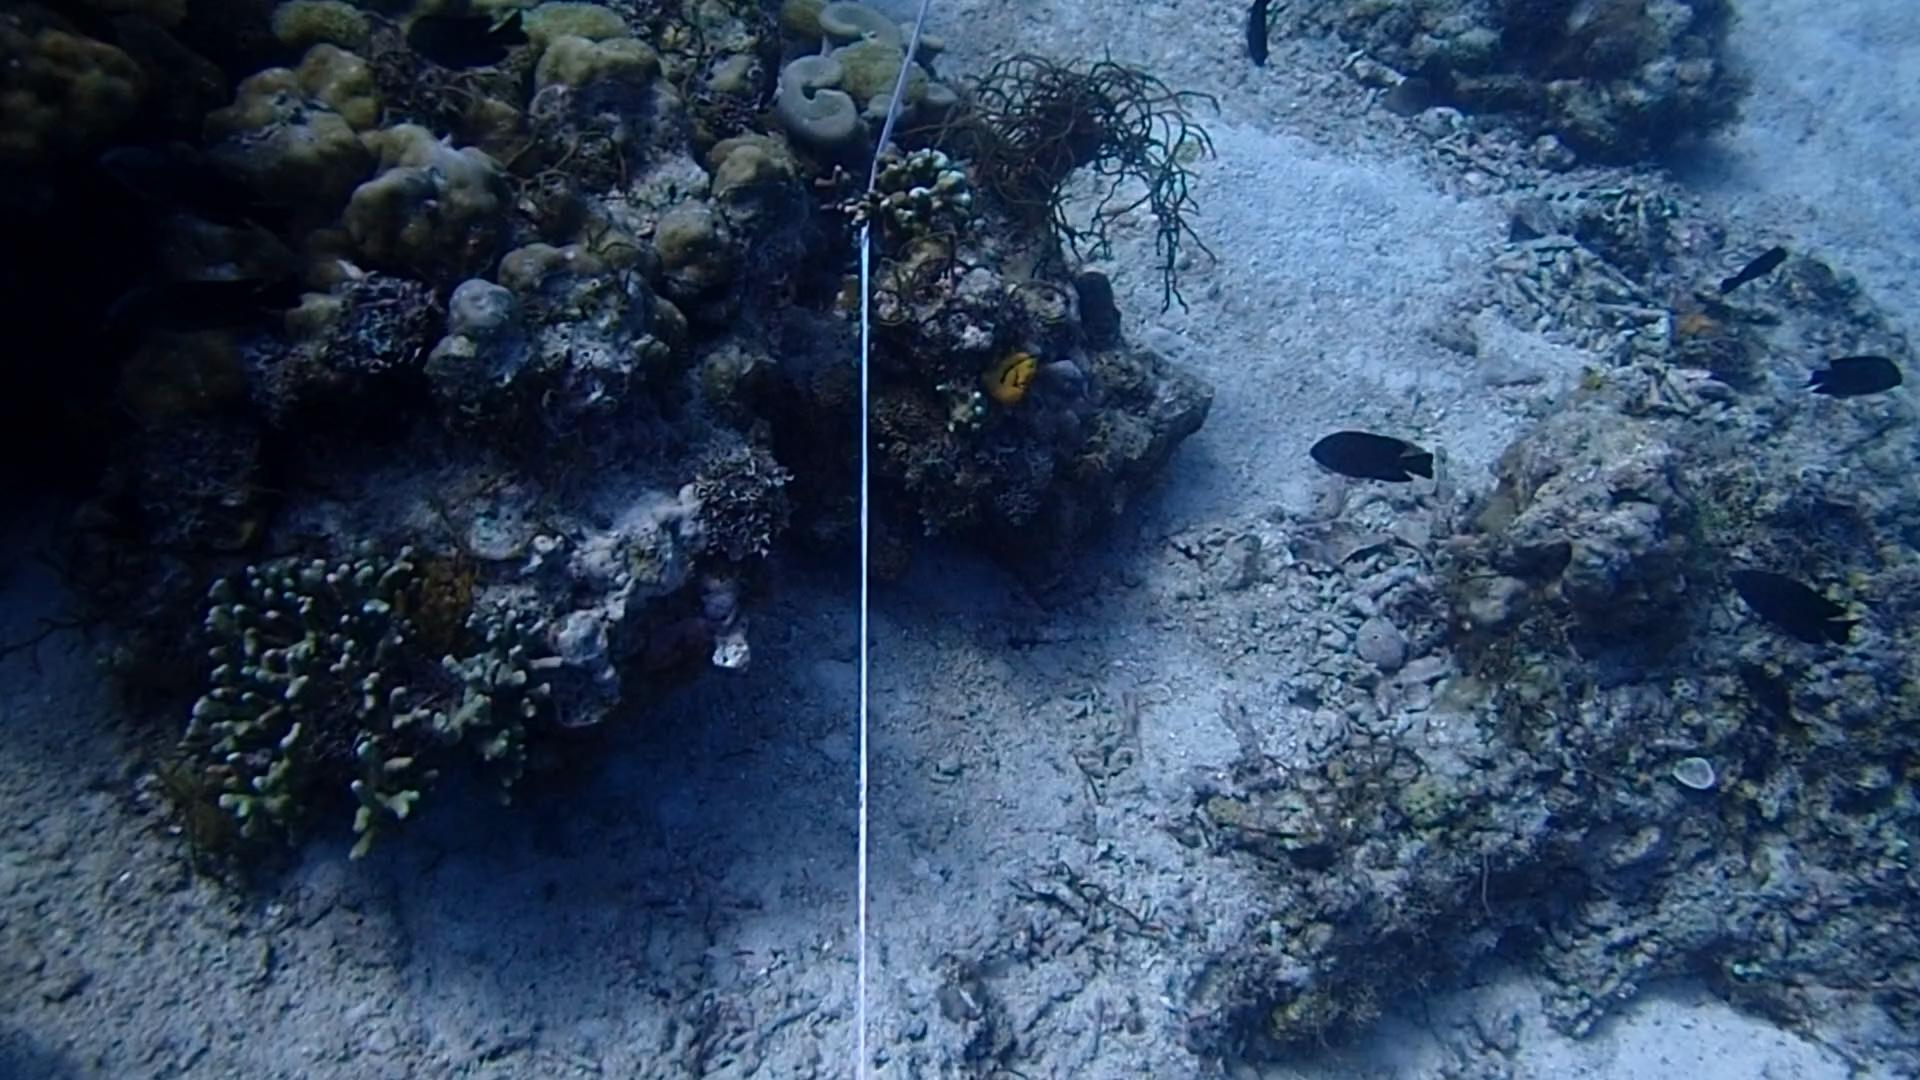Dark Fish: (1713, 554, 1857, 651), (1302, 417, 1436, 488), (1725, 654, 1818, 746), (1807, 336, 1903, 411), (1709, 237, 1796, 307), (1226, 0, 1298, 70)
Light Fish: (1374, 61, 1443, 125)
